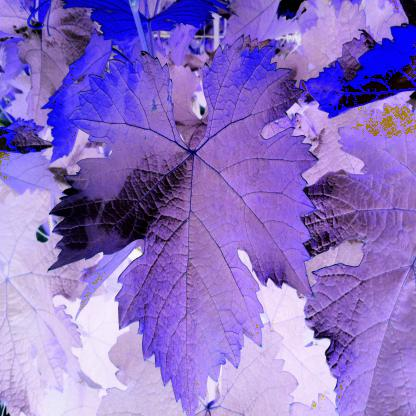grape leaf: (52, 38, 324, 416)
